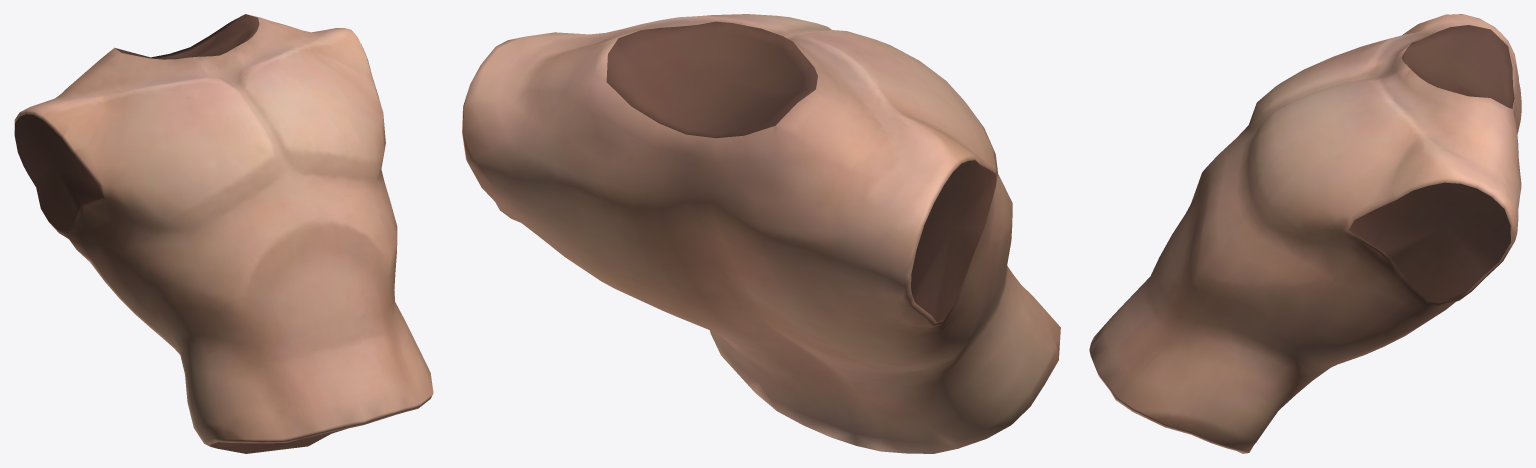
3 views of the same model, side by side, from view 1: azimuth 30°, elevation 25°; view 2: azimuth 150°, elevation 25°; view 3: azimuth 270°, elevation 25° (orthographic). The views are drawn at different scales.
Visible parts, largest first — view 1: SM_Human_Torso_LOD0; view 2: SM_Human_Torso_LOD0; view 3: SM_Human_Torso_LOD0.
Boxes of the visible parts, box(x1,y1,x2,y2) form: SM_Human_Torso_LOD0: box(14, 14, 433, 453); SM_Human_Torso_LOD0: box(462, 14, 1060, 453); SM_Human_Torso_LOD0: box(1089, 14, 1521, 453).
Size of the model in its own units: 0.4516 by 0.462 by 0.4777.
1 material, 1 textured.
